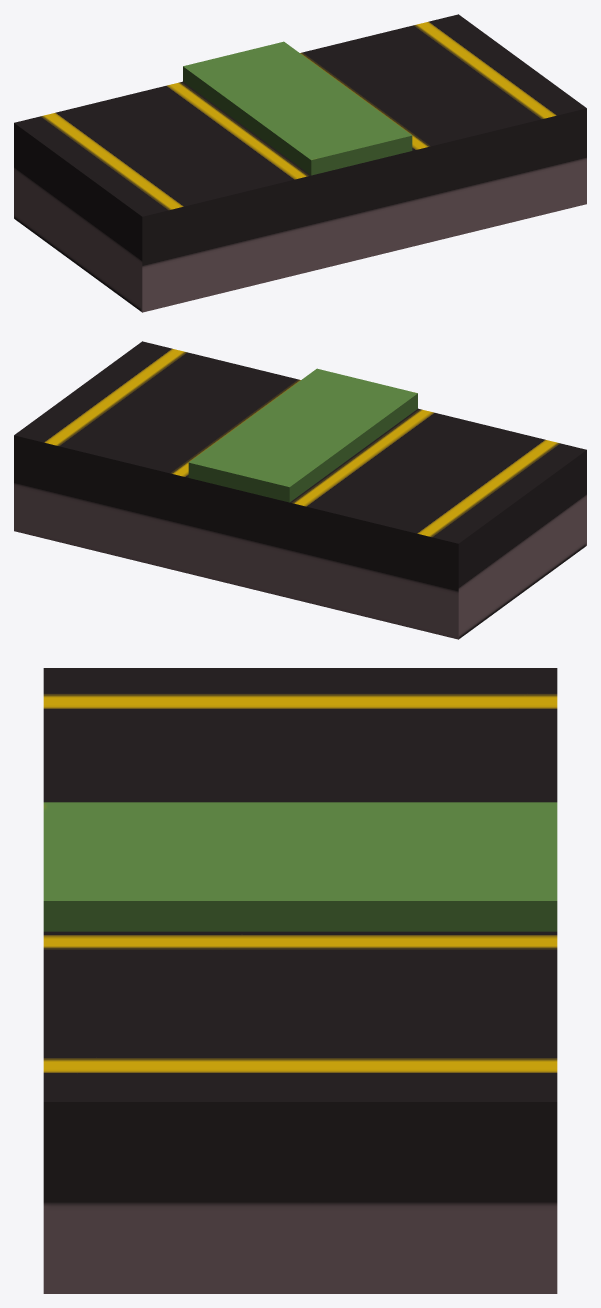
Rendered from roadStraight_divider.dae.
The picture shows the model from 3 angles, top to bottom: view 1: azimuth 30°, elevation 25°; view 2: azimuth 150°, elevation 25°; view 3: azimuth 270°, elevation 25°; orthographic projection. The views are drawn at different scales.
Parts seen in each view (by area): view 1: roadStraight_divider; view 2: roadStraight_divider; view 3: roadStraight_divider.
Part boxes in pixels (x1,y1,x2,y2): roadStraight_divider: (14,14,586,312); roadStraight_divider: (14,341,586,639); roadStraight_divider: (43,668,557,1293).
Size of the model in its own units: 2000 by 478 by 1000.
